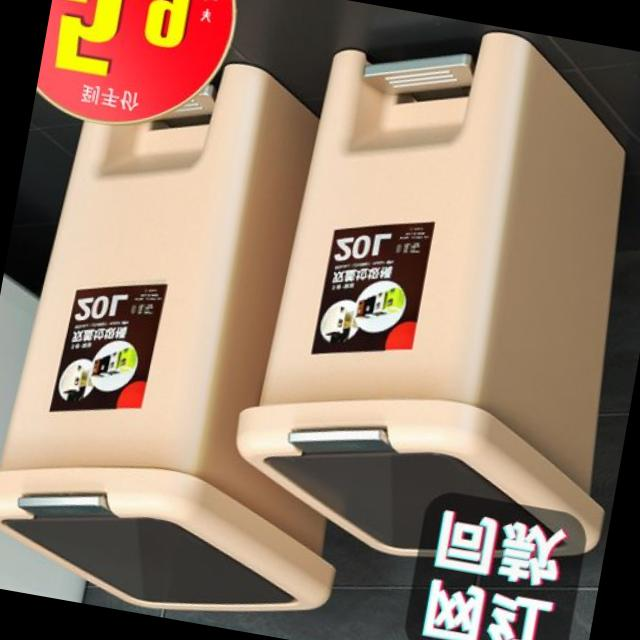dustbin: (0, 26, 418, 640)
